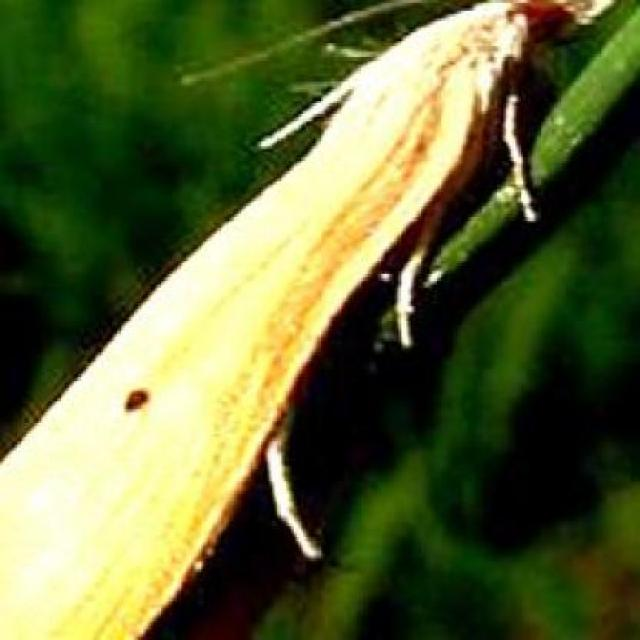stem-borer: (0, 0, 628, 638)
